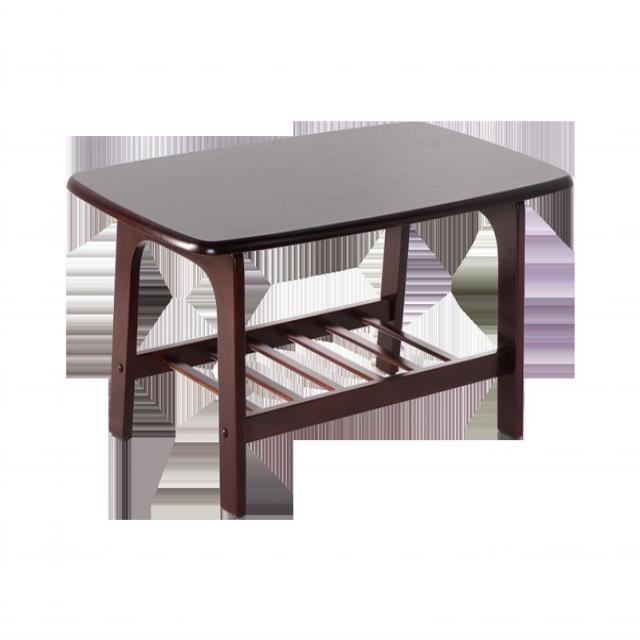Table: (57, 105, 577, 541)
